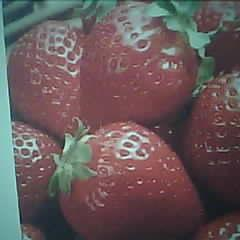straw-ripe: (58, 122, 203, 240), (78, 0, 198, 127)
